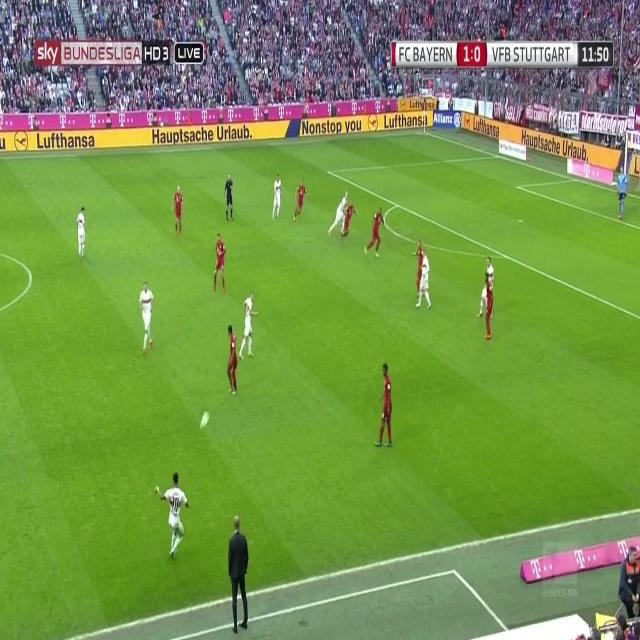Ball: (199, 408, 211, 436)
Player: (150, 470, 192, 563), (374, 362, 396, 454), (138, 281, 156, 360), (240, 288, 258, 366), (364, 205, 387, 262), (415, 249, 433, 316), (224, 323, 240, 397), (211, 231, 229, 295), (327, 190, 349, 239), (72, 204, 90, 262), (291, 177, 308, 228), (342, 200, 358, 247), (171, 184, 184, 241), (483, 274, 493, 347), (271, 170, 283, 224), (413, 238, 425, 292)
Referee: (616, 164, 629, 222), (222, 171, 235, 225)
